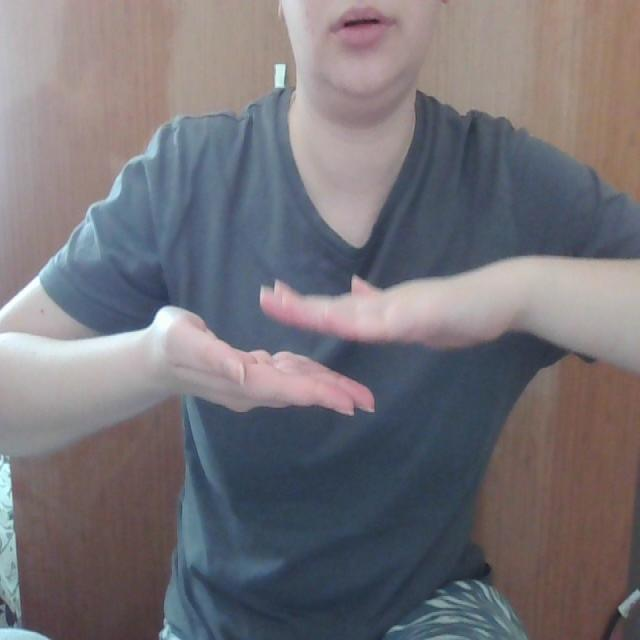Arkadas: (3, 246, 640, 431)
